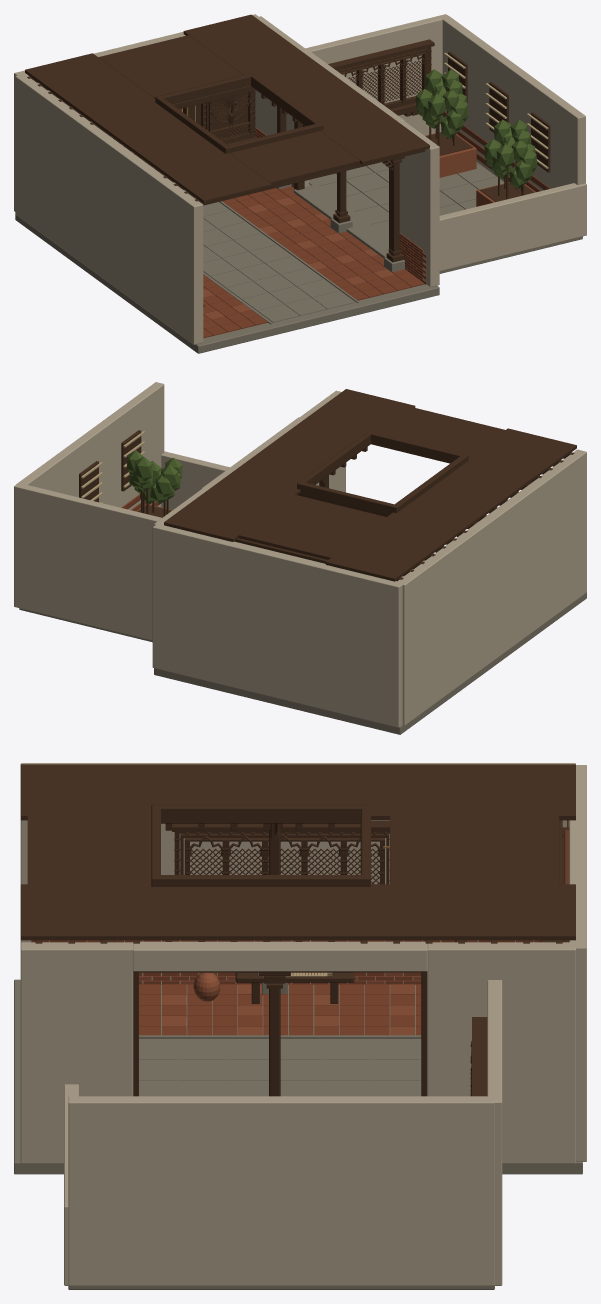
Rendered from bhaktapur-gallery.glb.
3 renders of one model, top to bottom at view 1: azimuth 30°, elevation 25°; view 2: azimuth 150°, elevation 25°; view 3: azimuth 270°, elevation 25°, orthographic. The views are drawn at different scales.
Visible parts, largest first — view 1: Gallery | Warm lime plaster, Gallery | Carved warm timber, Gallery | Honed warm stone, Gallery | Fired terracotta, Gallery | Courtyard olive foliage, Gallery | Courtyard gallery window, Gallery | Fired terracotta variation, Gallery | Peacock window right, Gallery | Undyed woven linen; view 2: Gallery | Warm lime plaster, Gallery | Carved warm timber, Gallery | Honed warm stone, Gallery | Courtyard olive foliage, Gallery | Undyed woven linen; view 3: Gallery | Warm lime plaster, Gallery | Carved warm timber, Gallery | Honed warm stone, Gallery | Fired terracotta, Gallery | Five-bay gallery window, Gallery | Fired terracotta variation, Gallery | Courtyard gallery window.
Part boxes in pixels (<box>): Gallery | Warm lime plaster: <box>14,14,586,344</box>; Gallery | Carved warm timber: <box>25,14,550,307</box>; Gallery | Honed warm stone: <box>15,162,582,353</box>; Gallery | Fired terracotta: <box>203,112,550,338</box>; Gallery | Courtyard olive foliage: <box>416,69,536,188</box>; Gallery | Courtyard gallery window: <box>328,39,434,116</box>; Gallery | Fired terracotta variation: <box>203,130,535,319</box>; Gallery | Peacock window right: <box>201,91,257,144</box>; Gallery | Undyed woven linen: <box>444,52,548,168</box>; Gallery | Warm lime plaster: <box>14,382,586,727</box>; Gallery | Carved warm timber: <box>79,389,576,581</box>; Gallery | Honed warm stone: <box>19,507,586,734</box>; Gallery | Courtyard olive foliage: <box>126,450,182,504</box>; Gallery | Undyed woven linen: <box>81,431,145,503</box>; Gallery | Warm lime plaster: <box>20,763,586,1285</box>; Gallery | Carved warm timber: <box>20,764,575,1096</box>; Gallery | Honed warm stone: <box>14,979,582,1289</box>; Gallery | Fired terracotta: <box>31,940,540,1035</box>; Gallery | Five-bay gallery window: <box>172,821,389,884</box>; Gallery | Fired terracotta variation: <box>87,940,564,1035</box>; Gallery | Courtyard gallery window: <box>470,1017,487,1096</box>.
Bounding box in the file's own units: 10.8 × 3.94 × 8.46.
